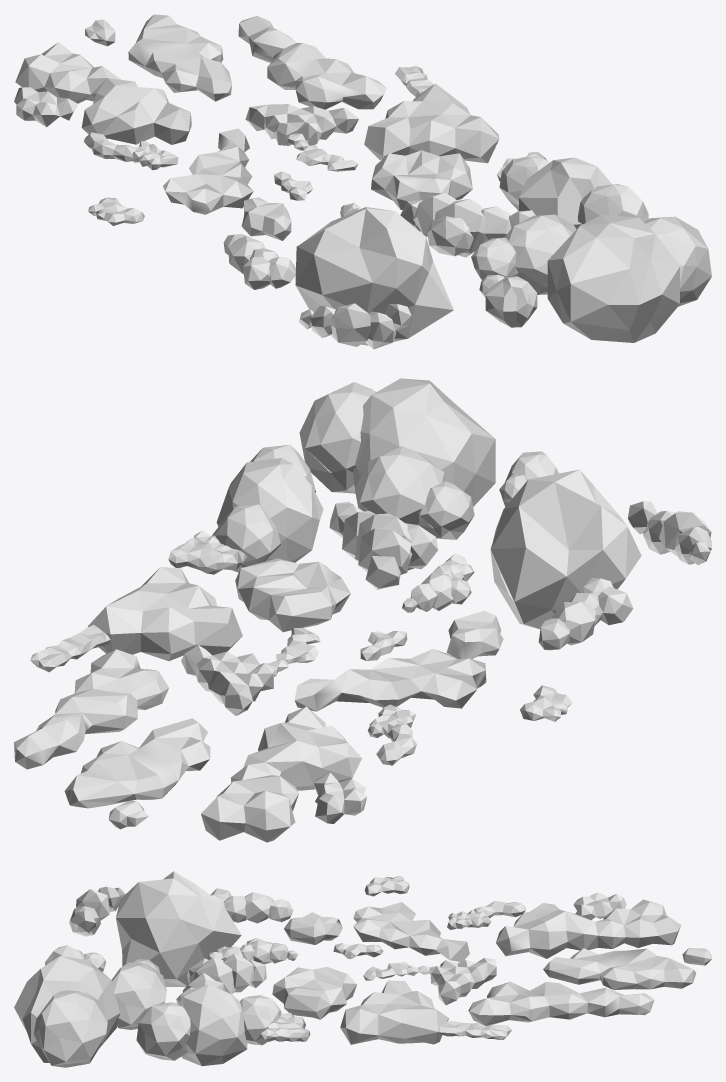
File: LowPoly_Clouds_V1.fbx
The picture shows the model from 3 angles, top to bottom: view 1: azimuth 30°, elevation 25°; view 2: azimuth 150°, elevation 25°; view 3: azimuth 270°, elevation 25°; orthographic projection. The views are drawn at different scales.
Visible parts, largest first — view 1: LowPoly_Clouds; view 2: LowPoly_Clouds; view 3: LowPoly_Clouds.
Boxes of the visible parts, x1,y1,x2,y2 form: LowPoly_Clouds: (14, 14, 711, 349); LowPoly_Clouds: (14, 378, 711, 842); LowPoly_Clouds: (14, 871, 711, 1067).
Bounding box in the file's own units: 5105 × 1531 × 8902.
